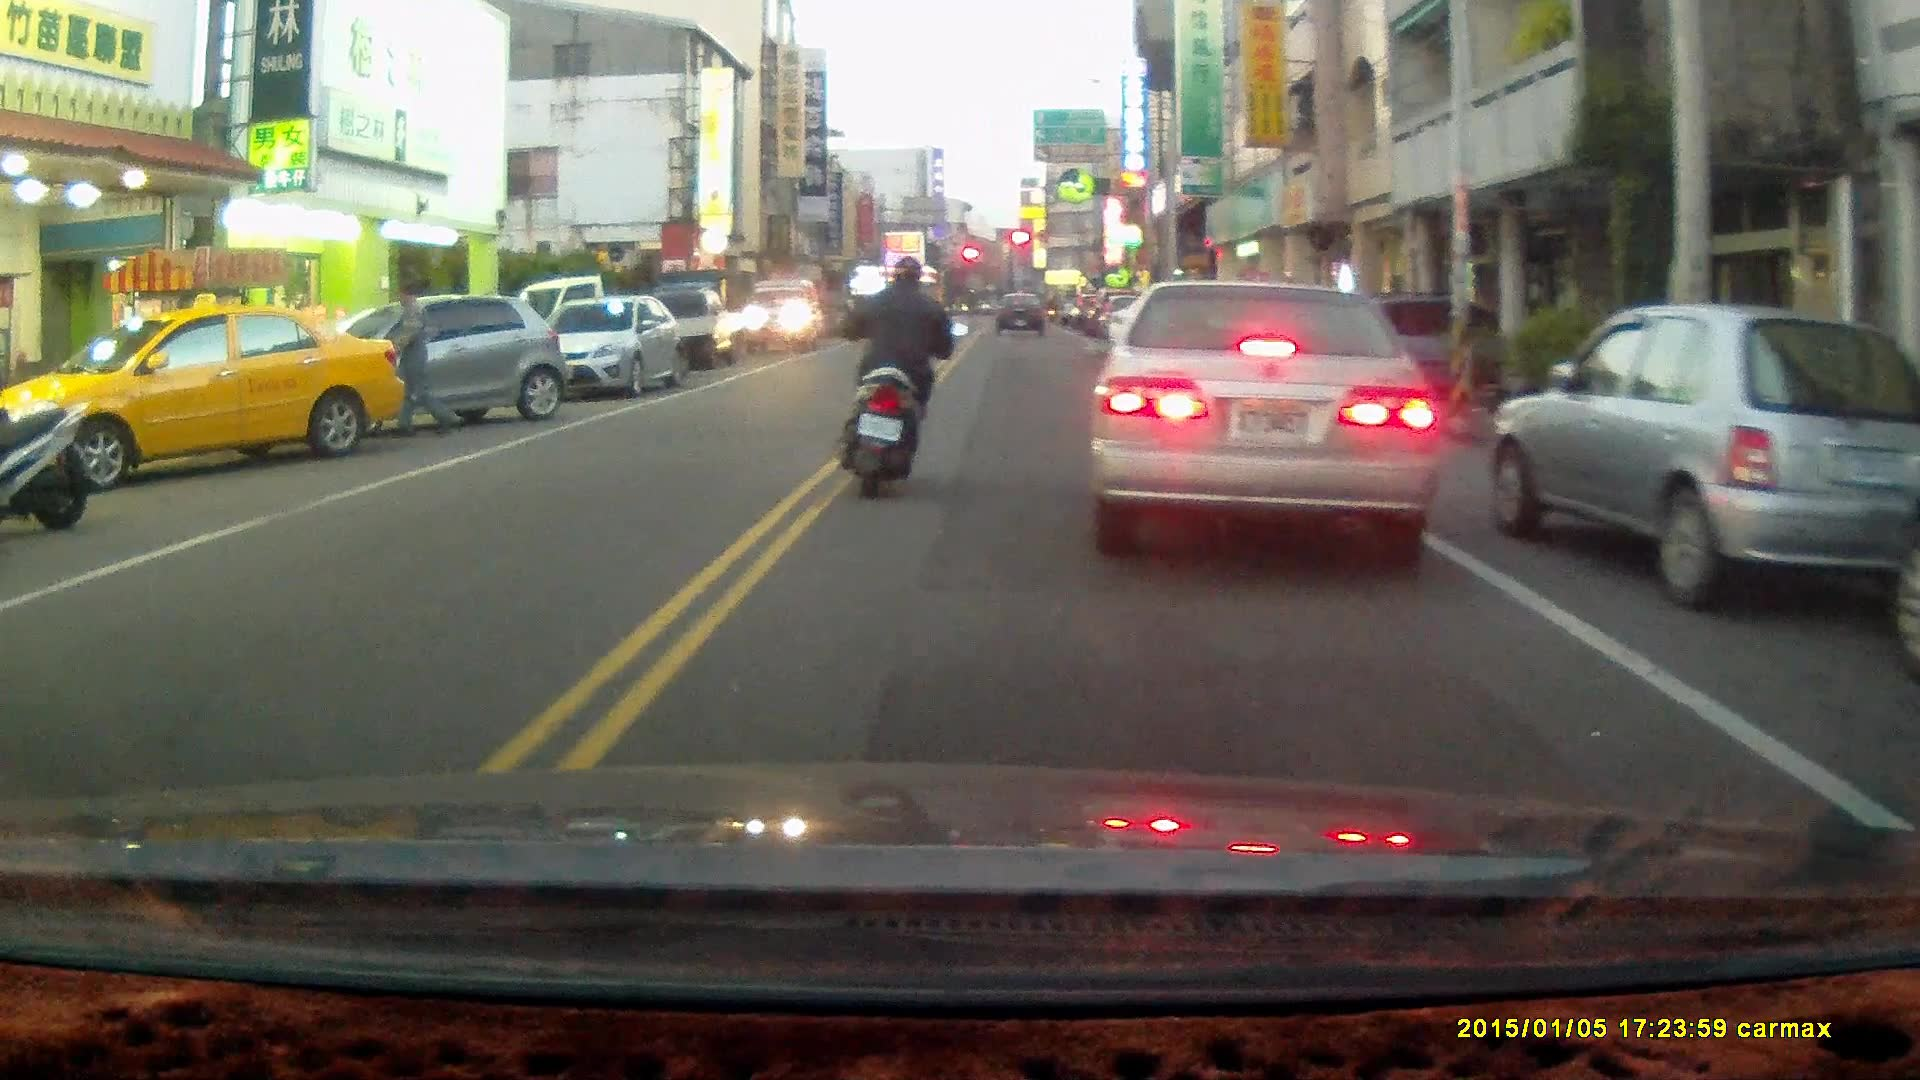pedestrian: (384, 280, 454, 443)
rider: (838, 253, 968, 500)
vehicle: (1493, 304, 1920, 613), (1081, 277, 1447, 560), (1, 302, 411, 496), (295, 290, 569, 425), (547, 296, 690, 399), (682, 283, 774, 376), (741, 279, 825, 354)
